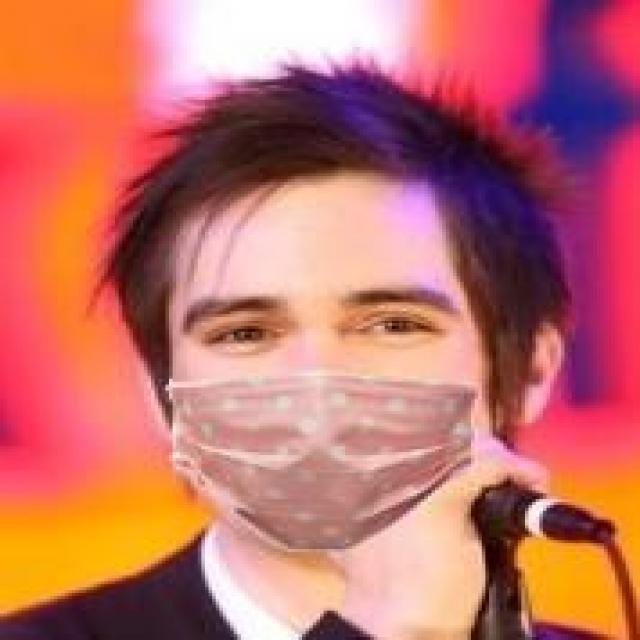mask: (72, 62, 543, 534)
